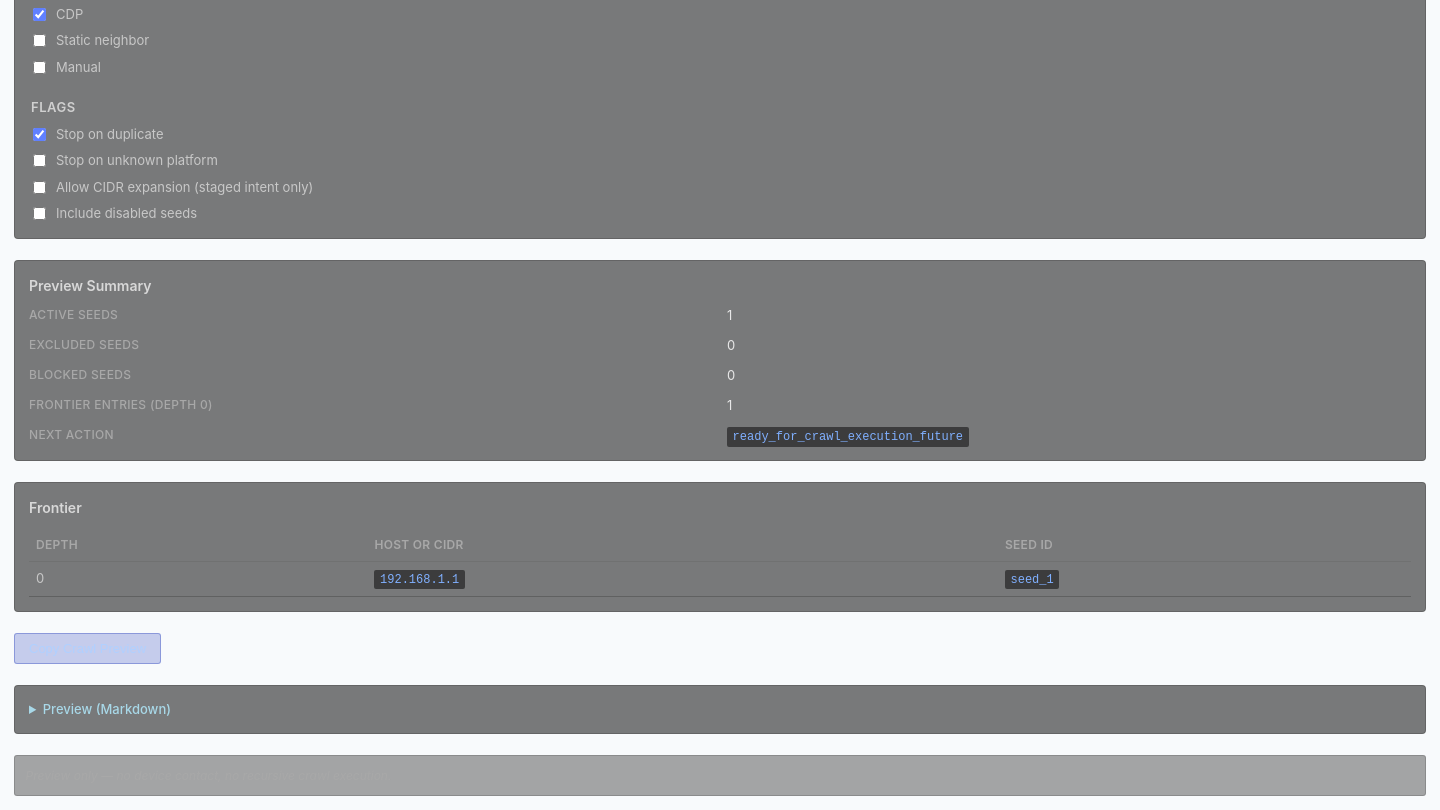
Test: CrawlPreviewPanel › shows copied indicator after successful clipboard write
(page scrolled)
Step 1. Click the button with test id "cp-copy-btn" → x=88, y=648, box [14,632,161,664]
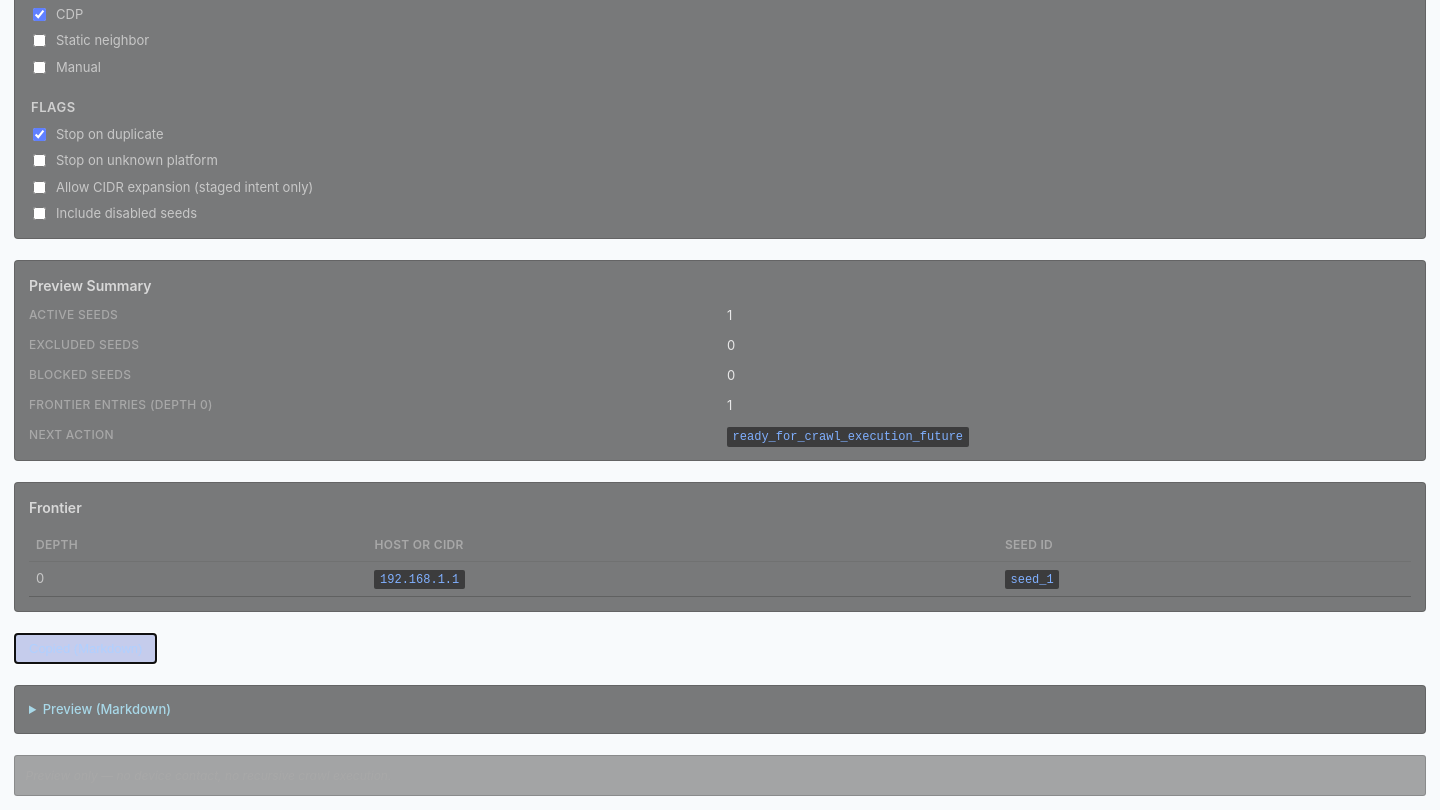
Now the button with test id "cp-copy-btn" reads "Copied (Markdown)", box [14,632,157,664]
